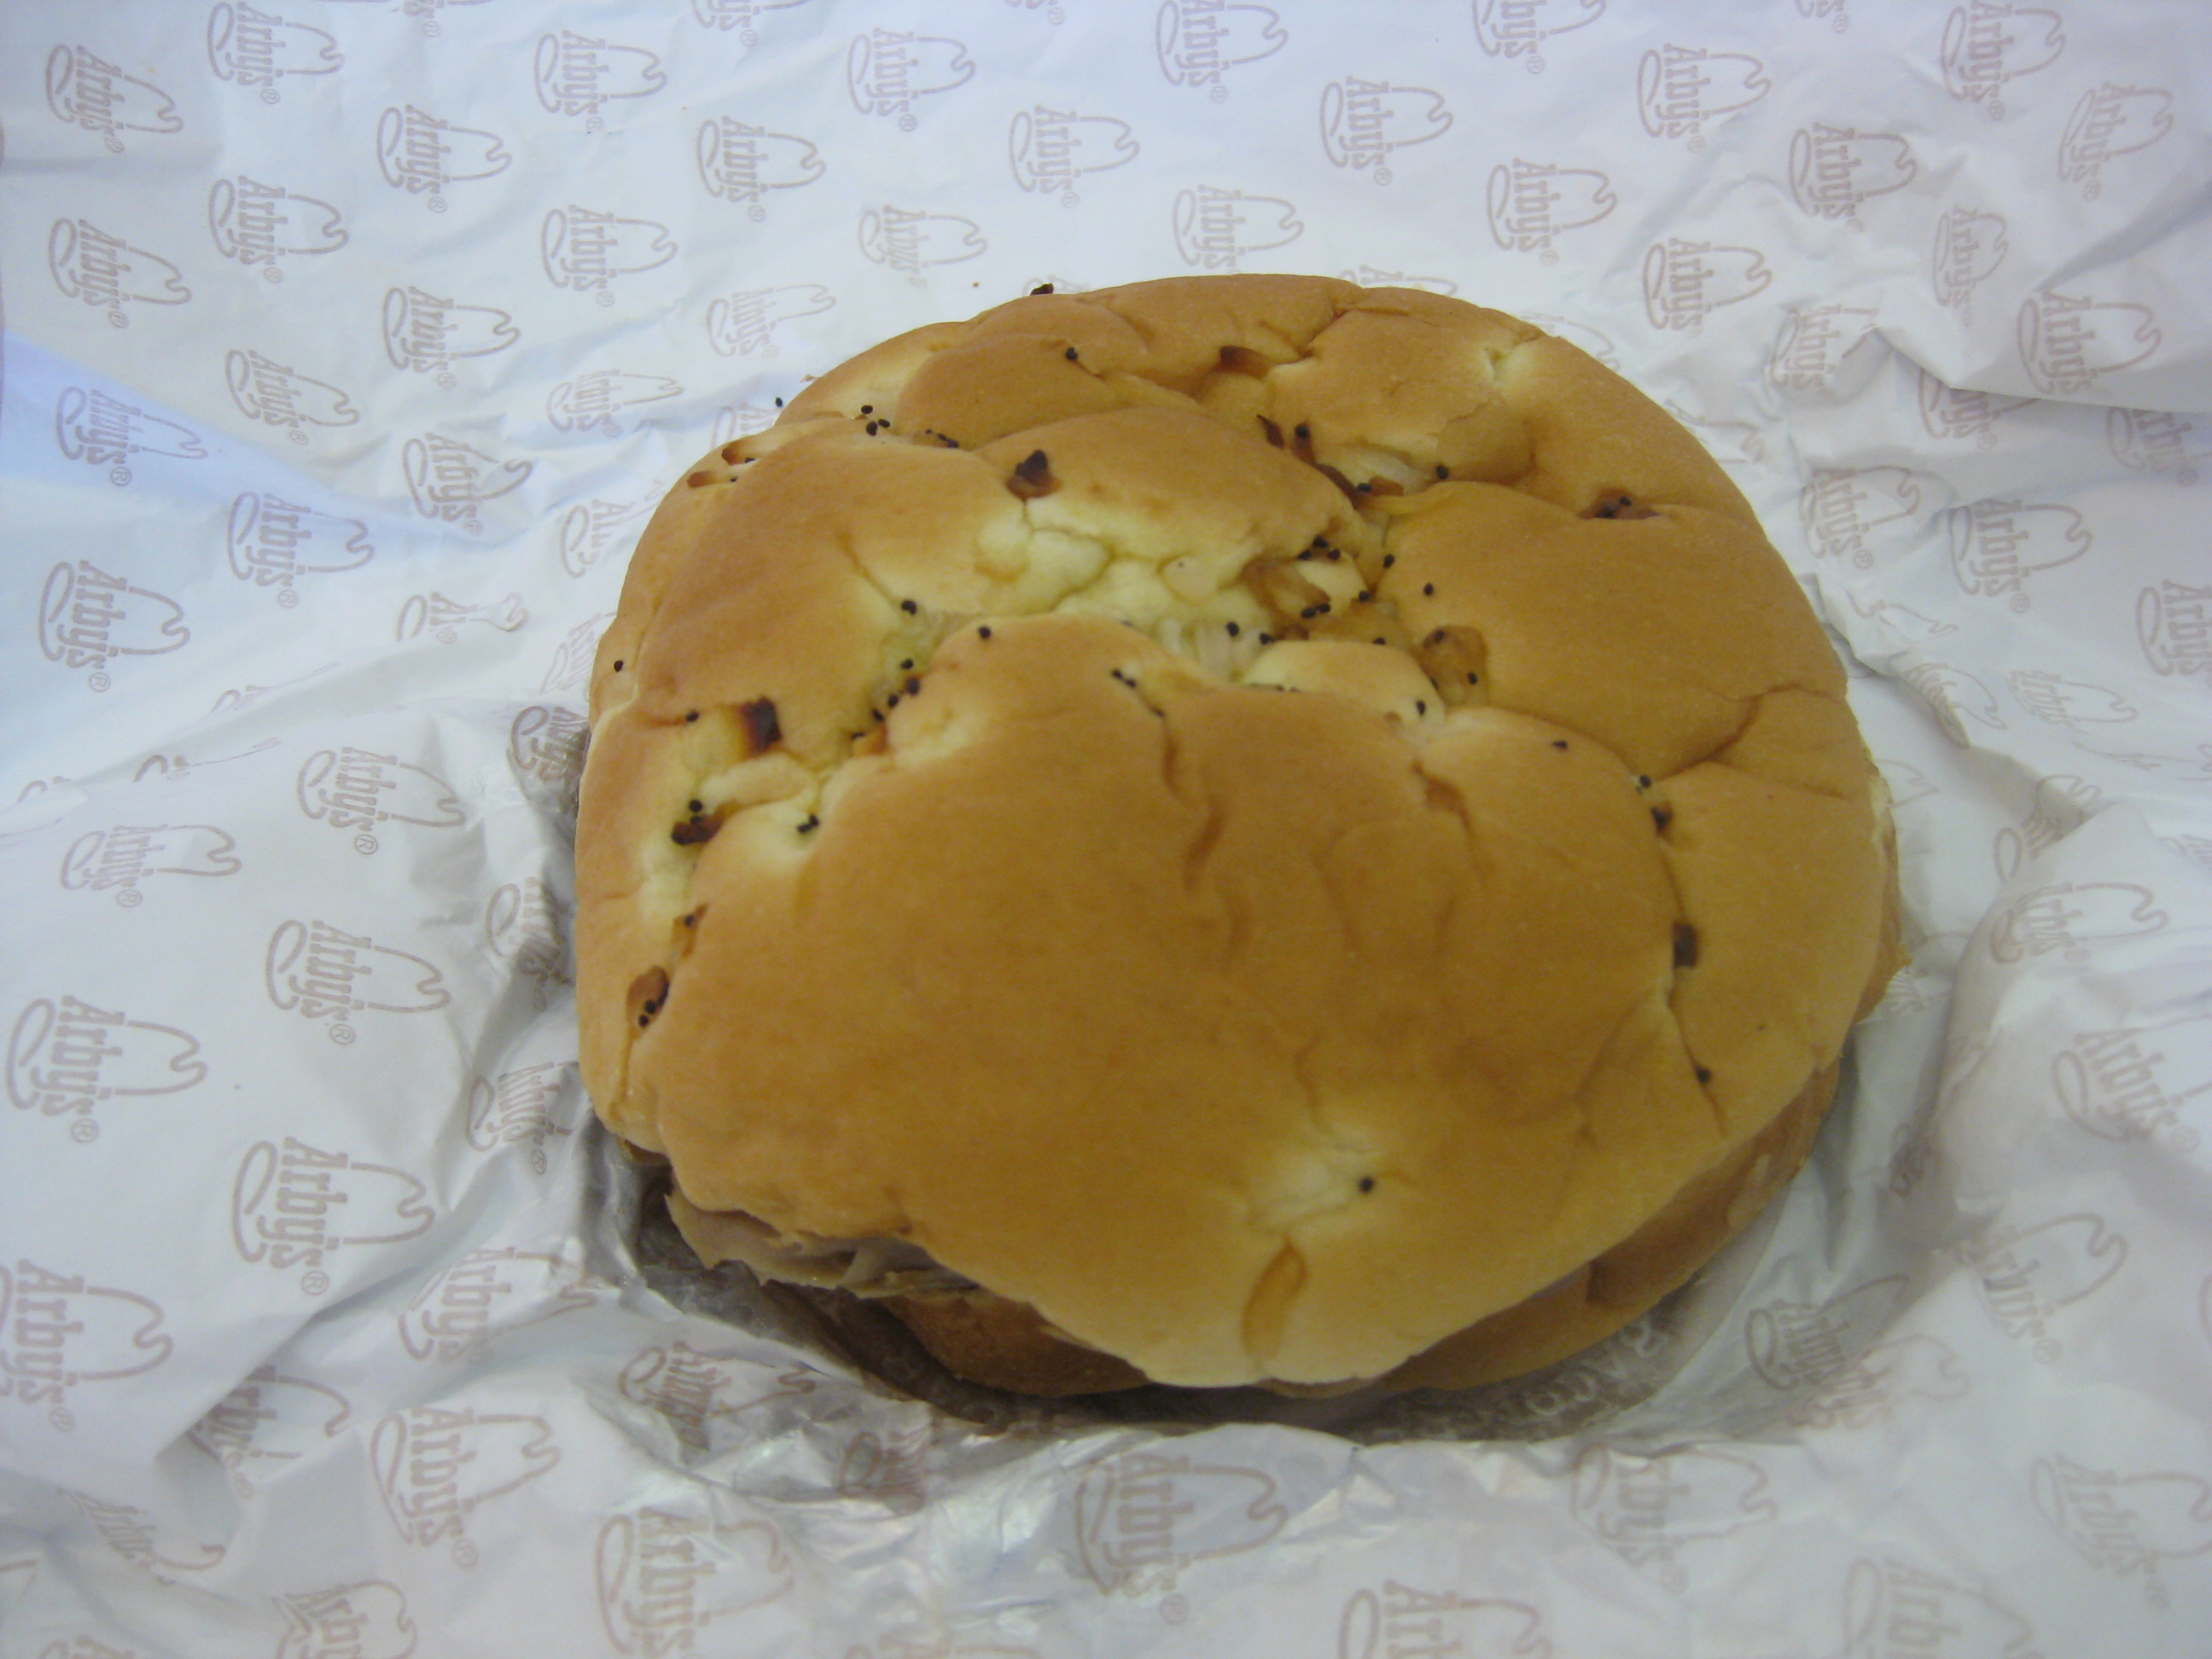burger: (556, 236, 1936, 1423)
